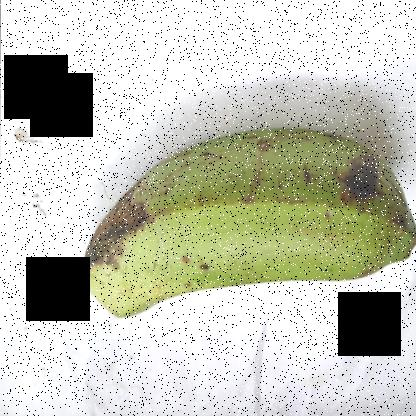rotten: (52, 166, 164, 280)
unripe: (79, 117, 415, 365)
